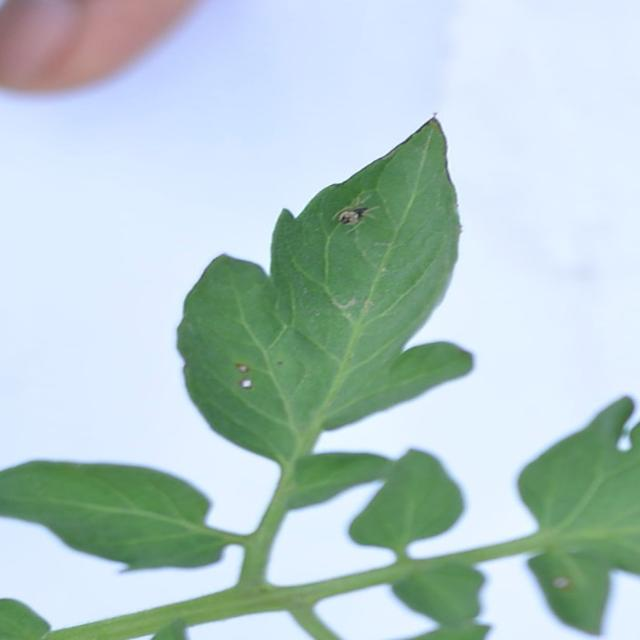healthy: (0, 449, 258, 575), (349, 442, 473, 565)
infected: (219, 194, 385, 408), (531, 557, 582, 599)
